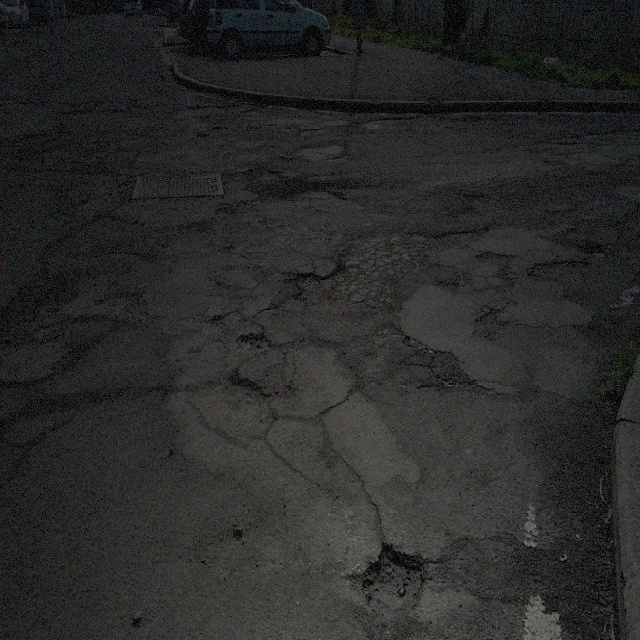pothole: (351, 531, 429, 610), (6, 259, 84, 331), (416, 346, 474, 401), (525, 248, 590, 280), (224, 370, 272, 409), (234, 324, 275, 357), (472, 302, 508, 337), (280, 264, 325, 290), (542, 132, 601, 150), (212, 198, 252, 222), (574, 236, 607, 257), (459, 186, 489, 204), (20, 127, 53, 141), (291, 121, 323, 135), (230, 522, 247, 546), (206, 308, 226, 327), (196, 129, 211, 142), (210, 123, 229, 132)
